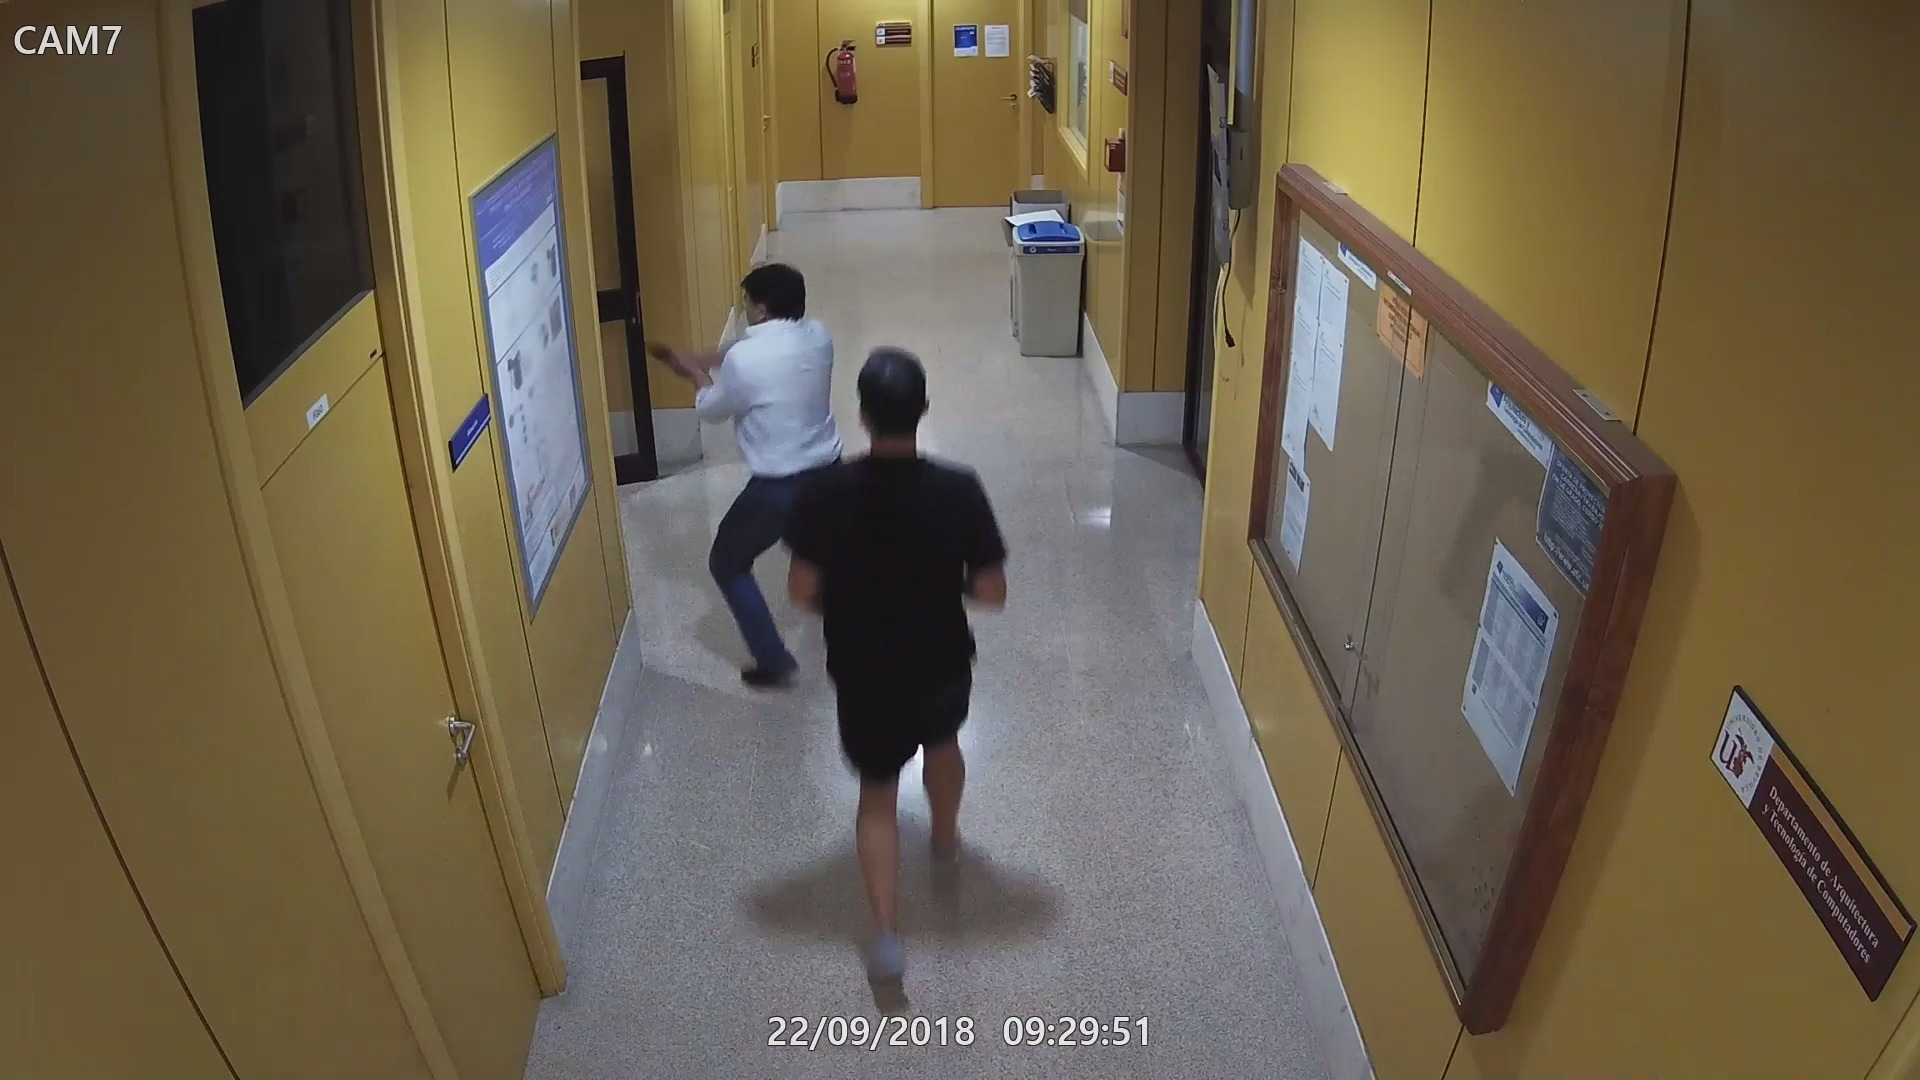Handgun: (632, 335, 679, 364)
